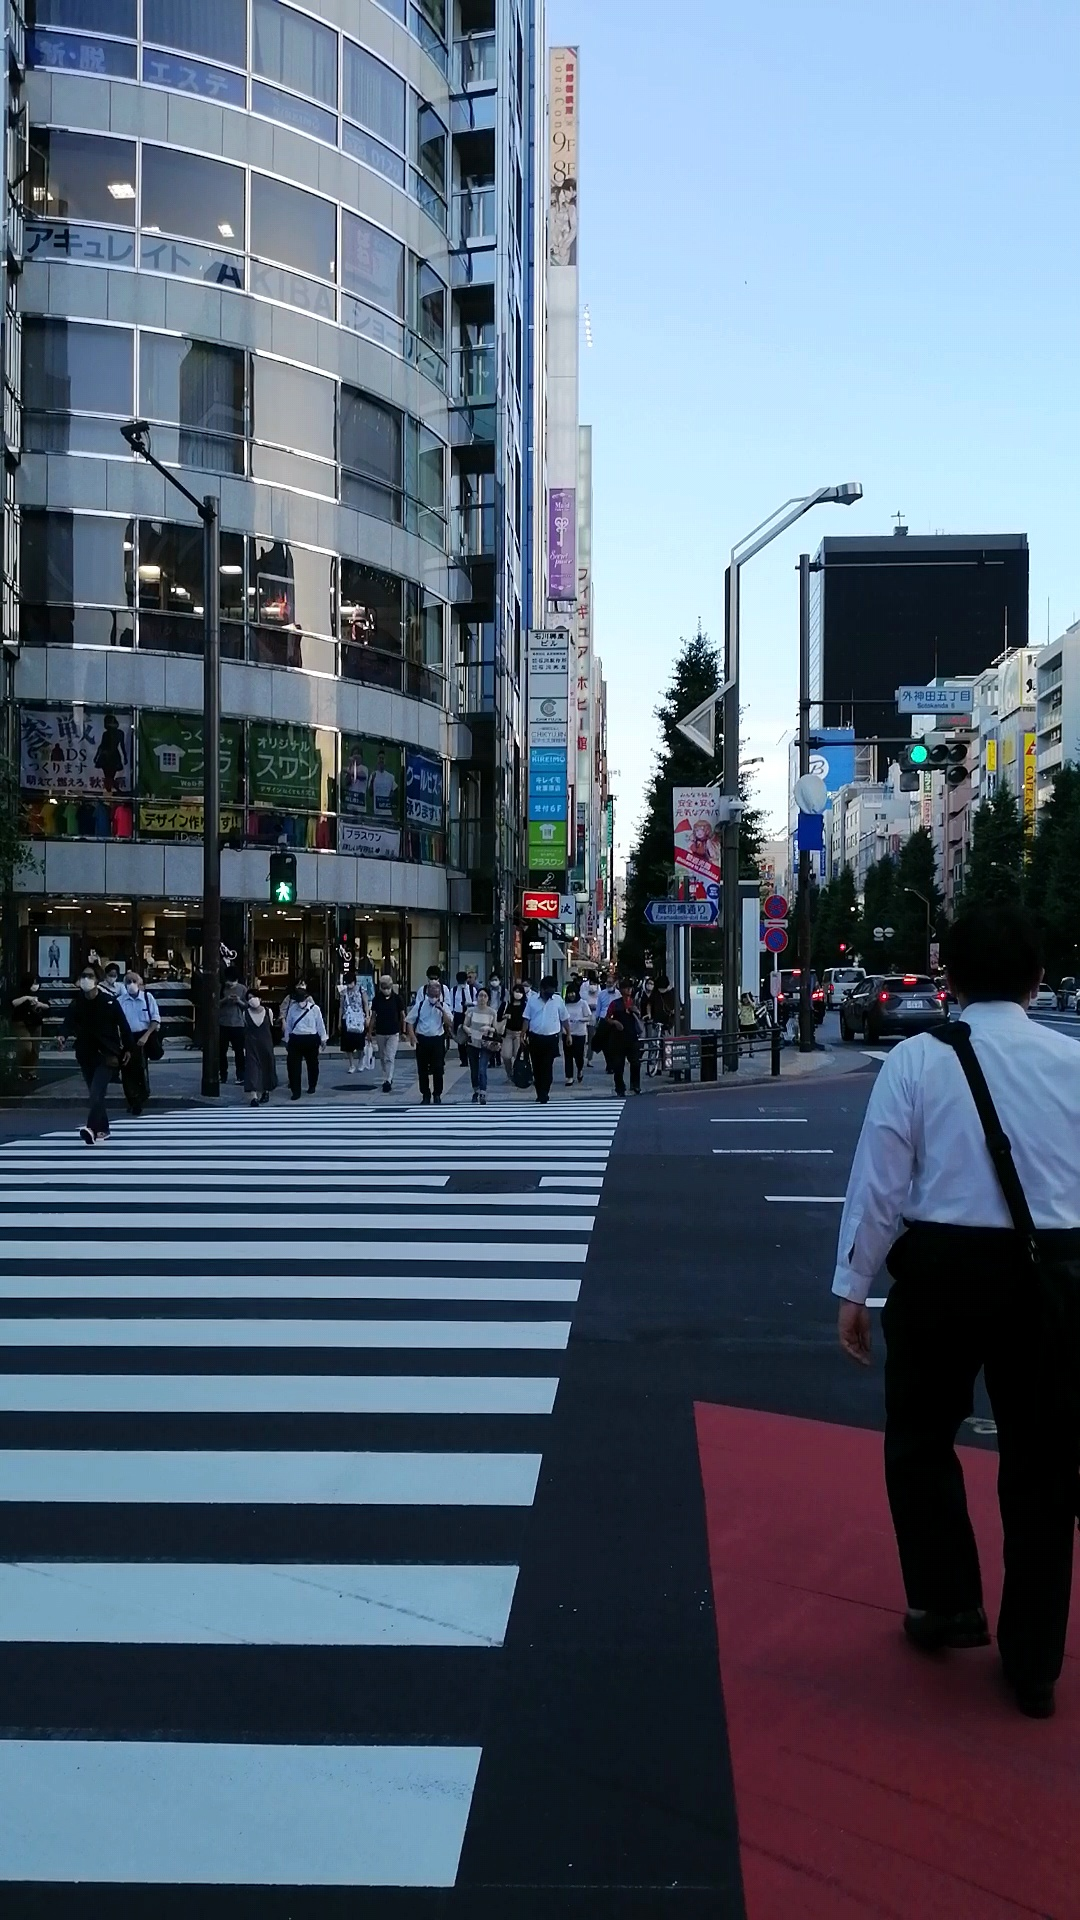green: (268, 851, 297, 907)
